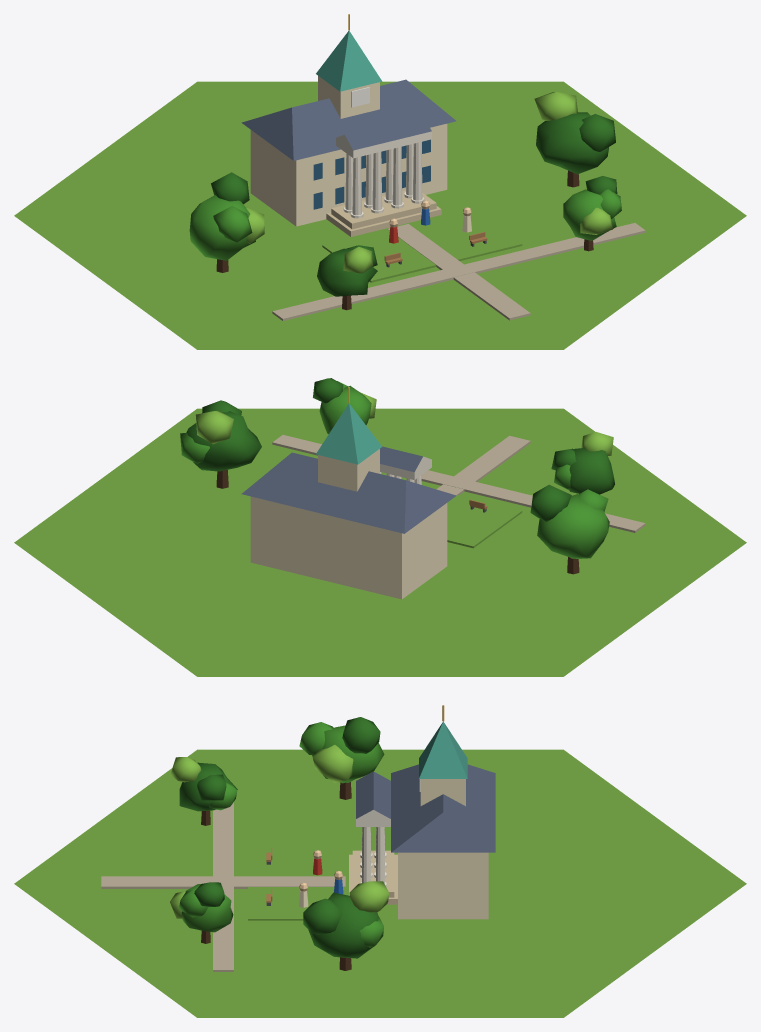
Rendered from district_campus_1.fbx.
3 views of the same model, one above another, from view 1: azimuth 30°, elevation 25°; view 2: azimuth 150°, elevation 25°; view 3: azimuth 270°, elevation 25° (orthographic).
Parts seen in each view (by area): view 1: district_campus_1; view 2: district_campus_1; view 3: district_campus_1.
Part boxes in pixels (x1=…): district_campus_1: x1=14, y1=14, x2=746, y2=349; district_campus_1: x1=14, y1=378, x2=746, y2=676; district_campus_1: x1=14, y1=705, x2=746, y2=1017.
Size of the model in its own units: 182 by 56.4 by 210.
